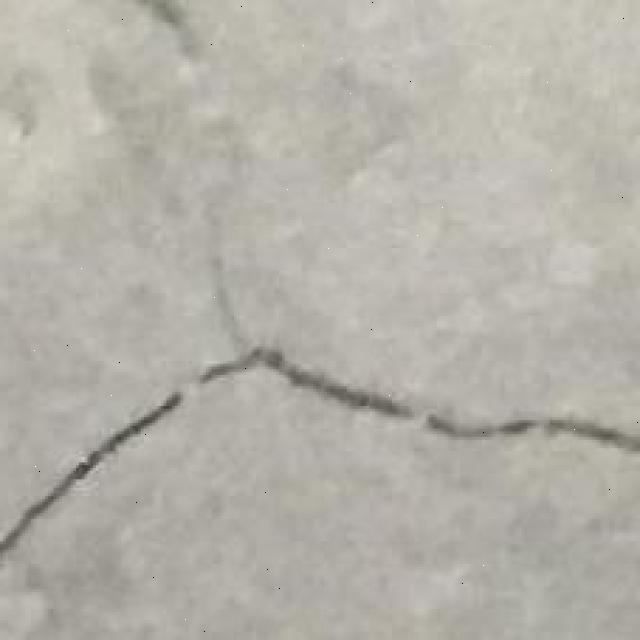crack: (0, 342, 638, 557)
